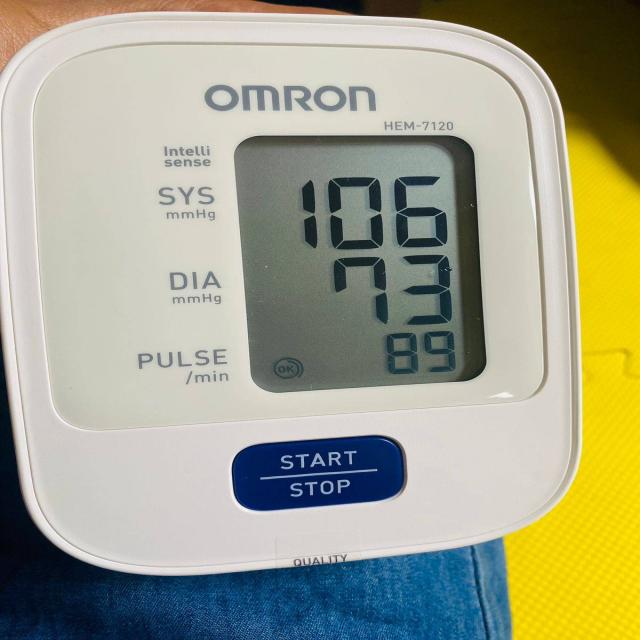bp: (0, 1, 598, 576)
